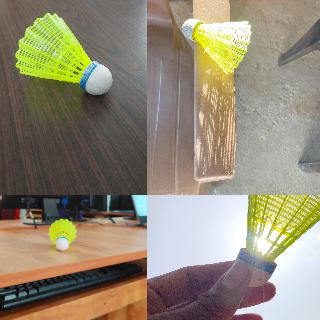shuttlecock: (15, 11, 111, 94), (234, 195, 319, 287), (182, 18, 250, 74), (48, 218, 76, 250)
